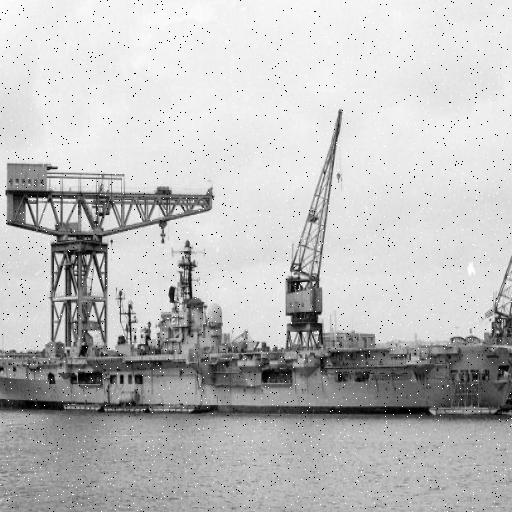Portanaves: (1, 242, 512, 424)
